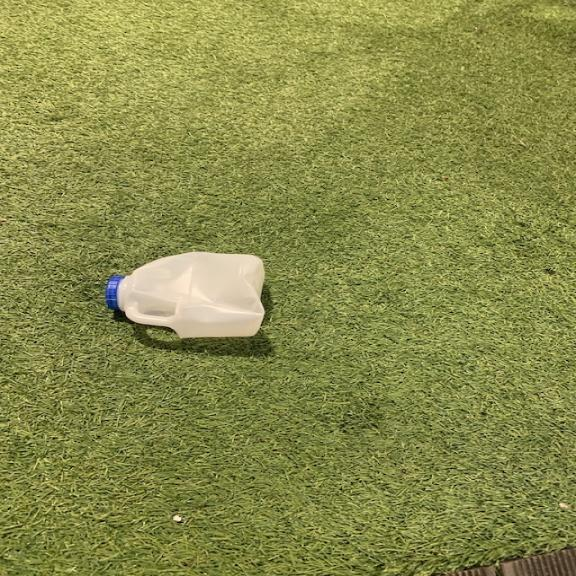Plastik: (98, 253, 270, 346)
